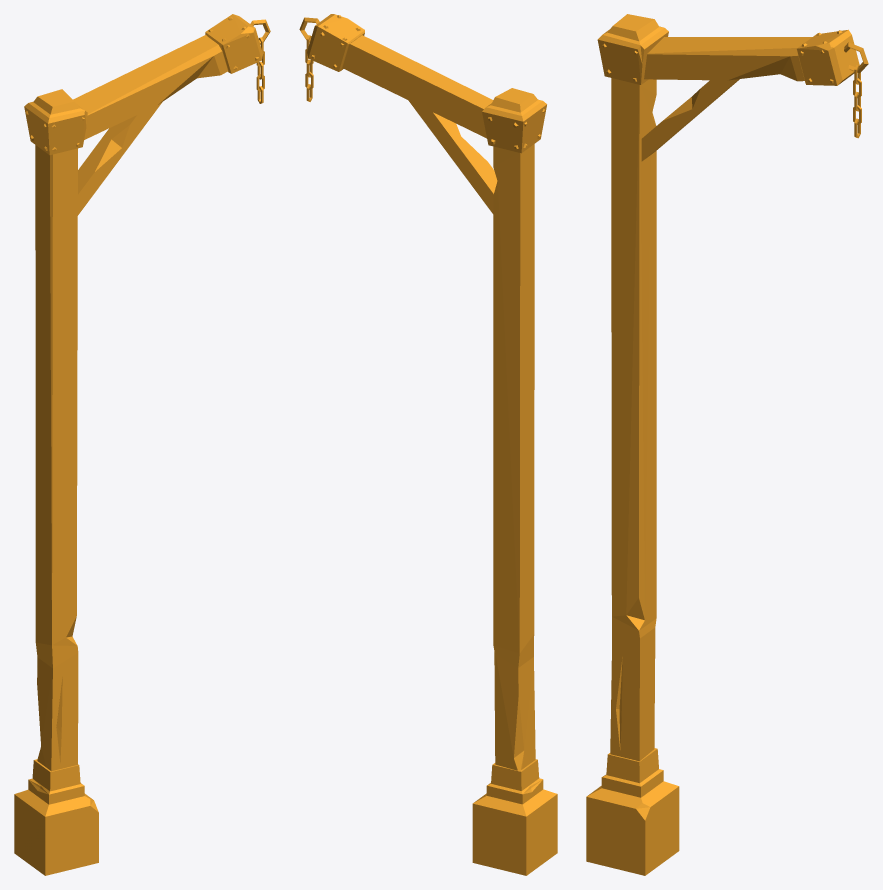
File: SM_Lamp_Street_A_Fantasy.fbx
The picture shows the model from 3 angles, left to right: view 1: azimuth 30°, elevation 25°; view 2: azimuth 150°, elevation 25°; view 3: azimuth 330°, elevation 25°; orthographic projection. The views are drawn at different scales.
Visible parts, largest first — view 1: lamp-street-a-fantasy; view 2: lamp-street-a-fantasy; view 3: lamp-street-a-fantasy.
Part boxes in pixels (box(x1,y1,x2,y2)): lamp-street-a-fantasy: box(14, 14, 270, 875); lamp-street-a-fantasy: box(299, 14, 557, 875); lamp-street-a-fantasy: box(586, 14, 868, 875).
Size of the model in its own units: 1.25 by 3.92 by 0.2782.
